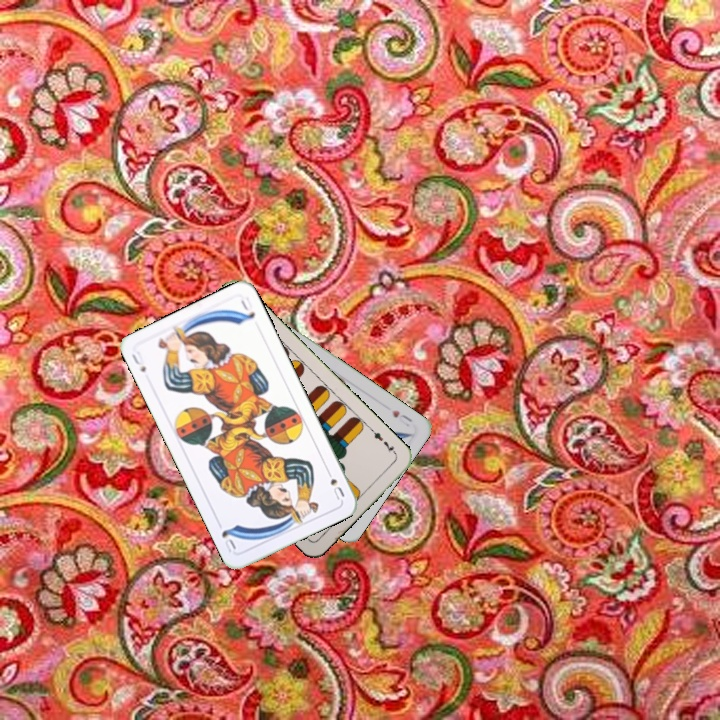E7: (367, 425, 399, 457)
HU: (387, 406, 415, 425)
SU: (322, 464, 347, 503), (127, 347, 148, 375)
